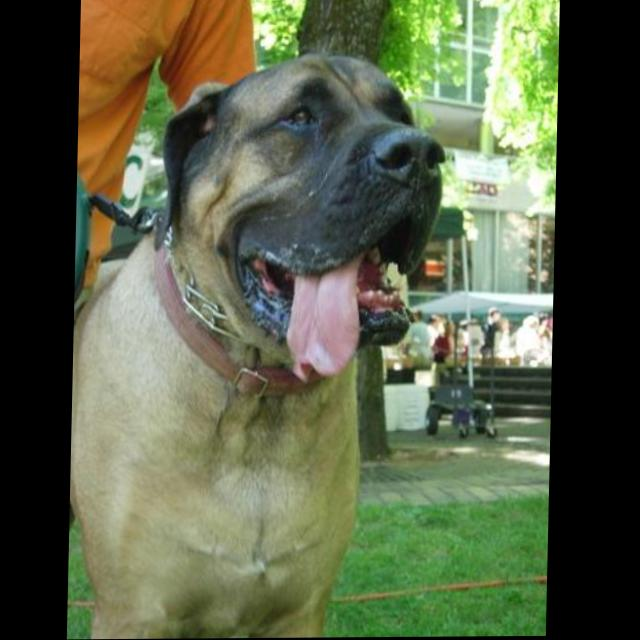bullmastiff: (70, 51, 450, 640)
person: (70, 1, 257, 640)
